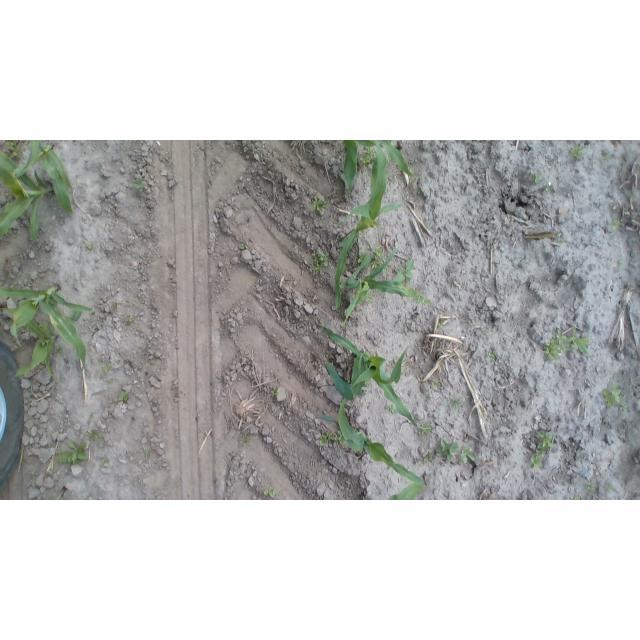Maize: (333, 141, 403, 309), (324, 329, 431, 432), (316, 395, 429, 483), (0, 284, 92, 372), (343, 240, 435, 321), (2, 308, 82, 389), (0, 153, 56, 241), (18, 140, 76, 214), (342, 141, 418, 196), (387, 484, 423, 500), (55, 487, 66, 500), (83, 496, 91, 500)
Weeds: (545, 331, 589, 360), (530, 432, 554, 468), (57, 439, 87, 466), (393, 258, 414, 282), (437, 439, 458, 461), (603, 380, 619, 408), (310, 252, 330, 271), (320, 430, 343, 446), (569, 146, 587, 162), (371, 246, 384, 267), (462, 444, 475, 464), (358, 147, 372, 165), (310, 197, 328, 211), (240, 431, 253, 449), (131, 178, 145, 190), (89, 430, 101, 442), (263, 487, 277, 497), (450, 399, 462, 410), (119, 392, 130, 403), (421, 424, 431, 436), (488, 350, 499, 360), (423, 453, 434, 463), (535, 170, 544, 182), (611, 220, 623, 228), (385, 405, 395, 414), (103, 363, 111, 374), (55, 343, 63, 353), (356, 253, 366, 261), (86, 243, 95, 250), (102, 457, 109, 466), (588, 482, 595, 491), (366, 294, 373, 303), (573, 494, 581, 500), (241, 239, 247, 247), (608, 485, 615, 491), (433, 381, 440, 387), (271, 392, 279, 397), (145, 450, 151, 456), (603, 157, 609, 162), (128, 318, 133, 323), (438, 323, 443, 327)
